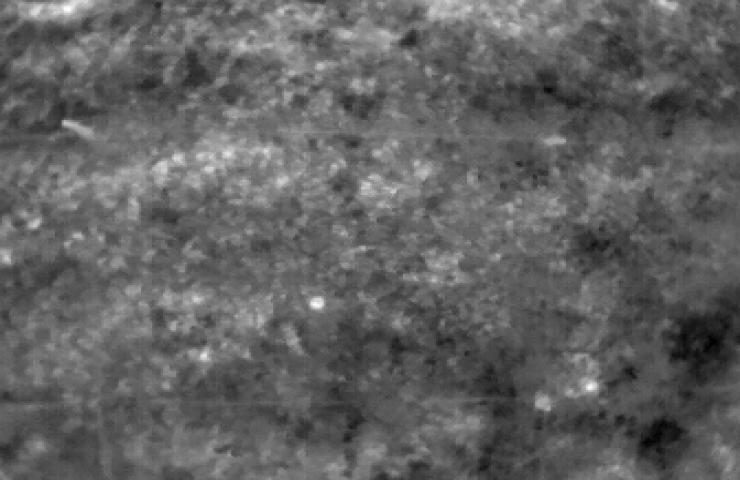landmines: (308, 295, 329, 315)
